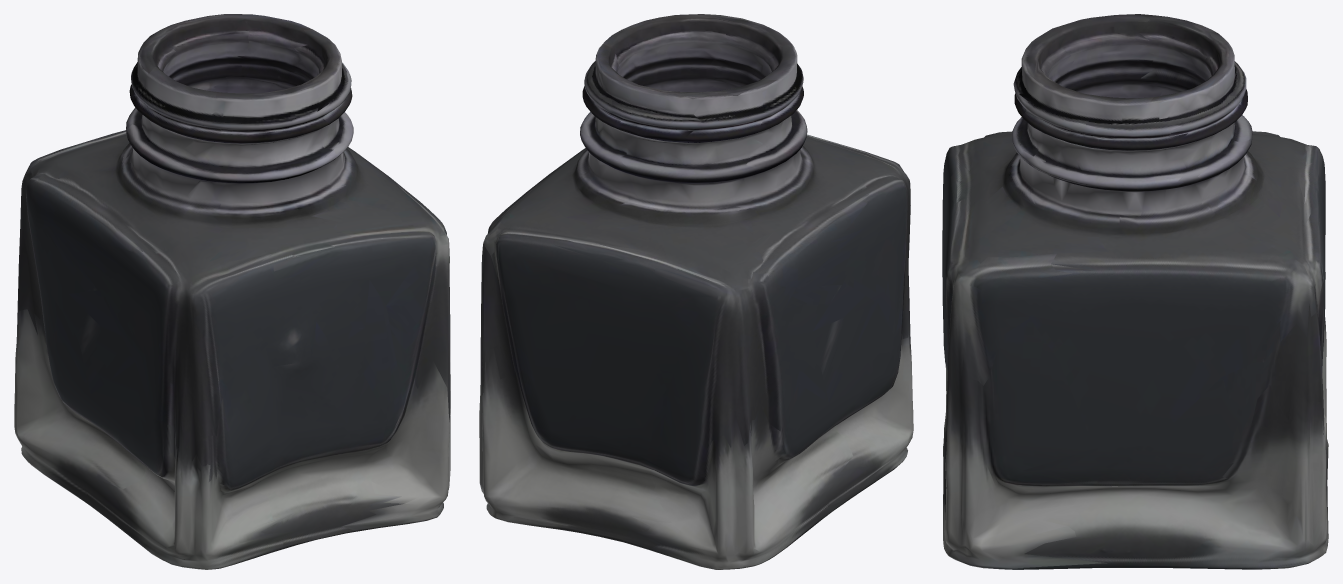
File: ink-v1.glb
3 renders of one model, left to right at view 1: azimuth 30°, elevation 25°; view 2: azimuth 150°, elevation 25°; view 3: azimuth 270°, elevation 25°, orthographic. The views are drawn at different scales.
Parts seen in each view (by area): view 1: InkBottle; view 2: InkBottle; view 3: InkBottle.
Part boxes in pixels (box(x1,y1,x2,y2)): InkBottle: box(14, 14, 450, 569); InkBottle: box(479, 14, 913, 569); InkBottle: box(942, 14, 1328, 569).
Bounding box in the file's own units: 0.0855 × 0.1246 × 0.0975.
Materials: 1 (1 with a texture image).
